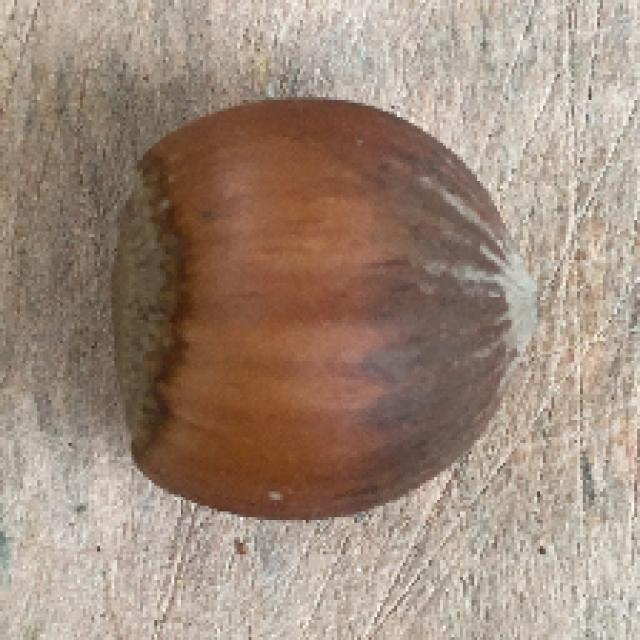damagedHazelnut: (102, 90, 547, 524)
